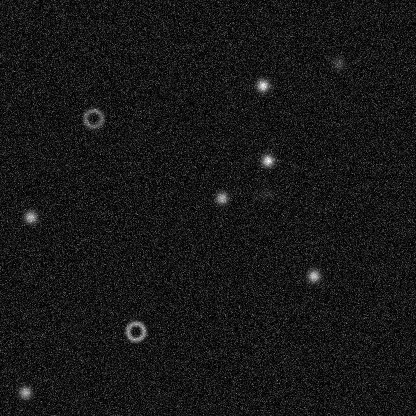Ring: (123, 319, 147, 343), (81, 106, 105, 130)
Spot: (259, 152, 275, 168), (254, 77, 270, 93), (17, 384, 33, 400), (259, 186, 275, 202), (330, 55, 346, 71), (22, 208, 38, 224), (213, 189, 229, 205), (305, 267, 321, 283)
